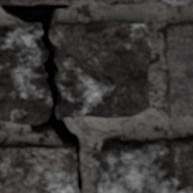brick: (97, 136, 192, 192), (0, 142, 79, 192), (164, 22, 192, 118), (0, 0, 78, 3), (102, 0, 154, 4), (163, 0, 192, 4)
broken_brick: (53, 21, 153, 118), (0, 26, 50, 125)
crack: (0, 2, 82, 190), (173, 175, 189, 192), (155, 0, 162, 2)
